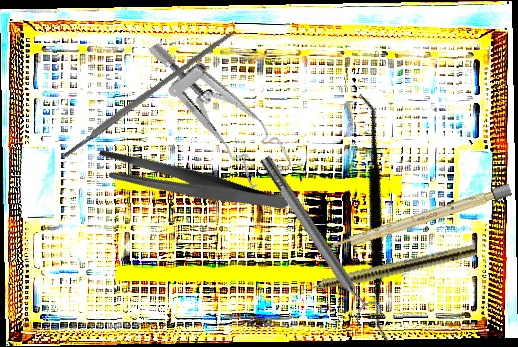Dressing Forceps: (91, 109, 292, 258)
Fixation Ring: (252, 149, 385, 328)
Handpiece: (285, 241, 478, 300)
Scalpel Handle: (59, 27, 238, 160), (326, 183, 513, 255)
Spatula Surgical: (258, 92, 489, 345)
Speculum: (145, 13, 295, 203)
